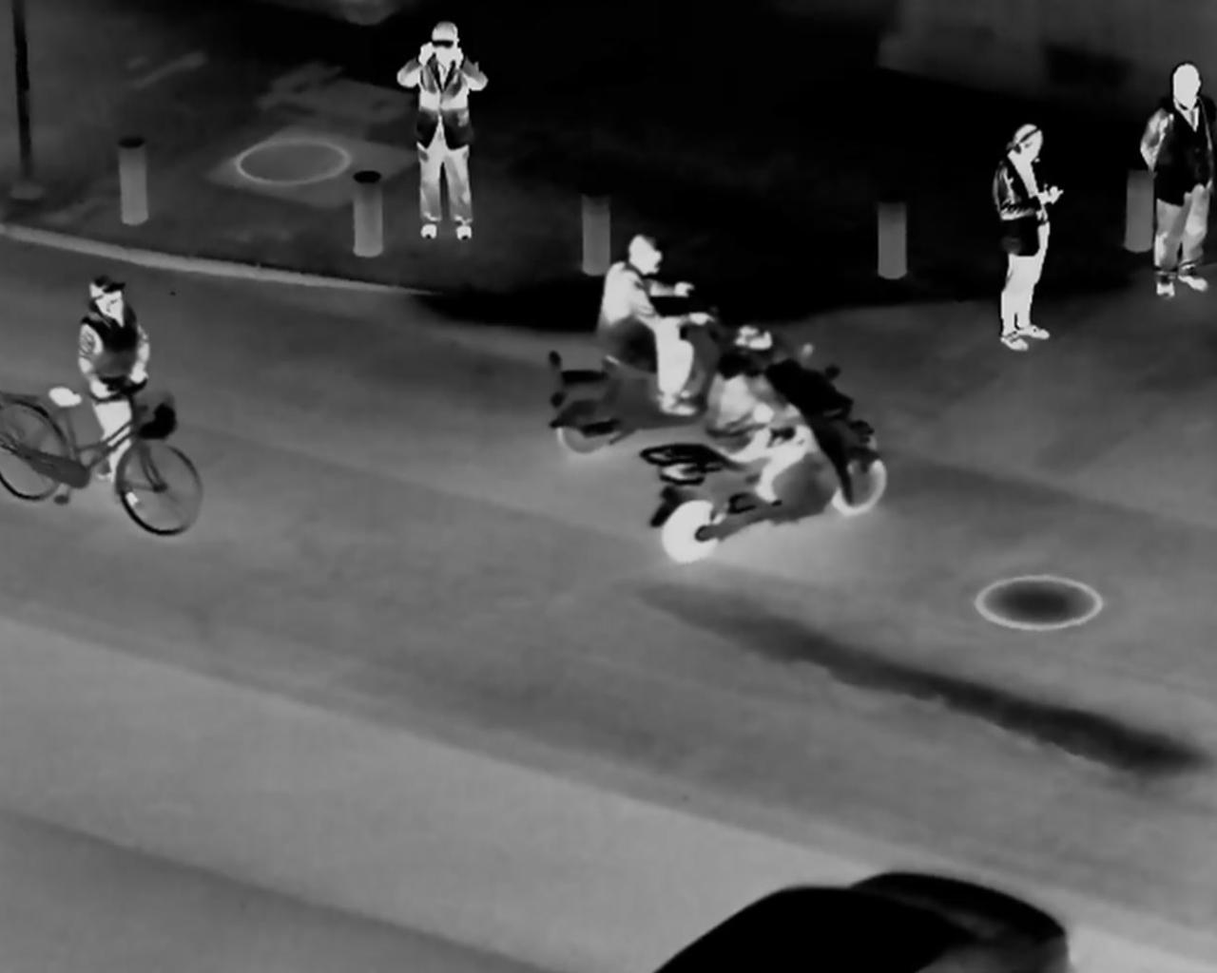person: (701, 317, 808, 539), (588, 220, 699, 423), (394, 20, 491, 246), (71, 267, 157, 501), (987, 113, 1063, 354), (1141, 57, 1213, 308)
